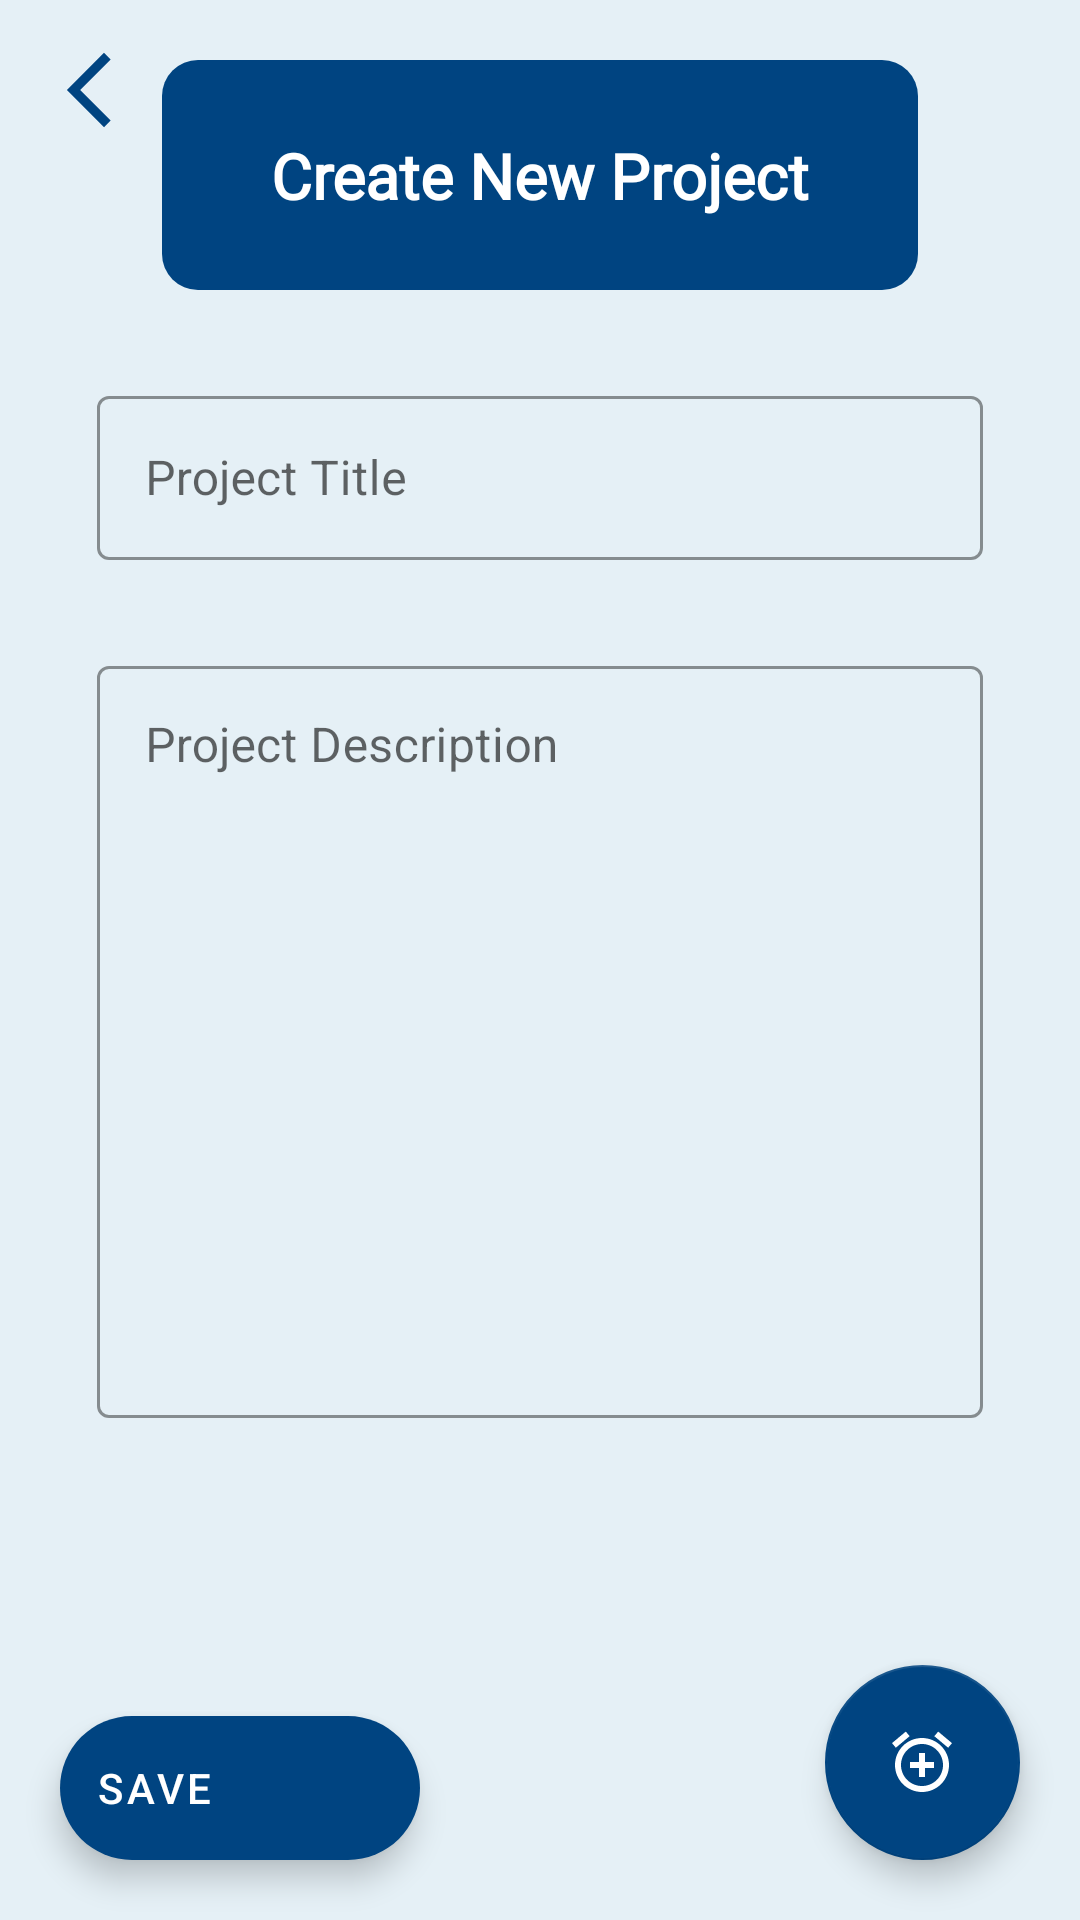

Icon bounding boxes for this 1080w x 1920h phone screenshot, format box(x1, y1, x2, y2):
back arrow: box(67, 53, 111, 127)
